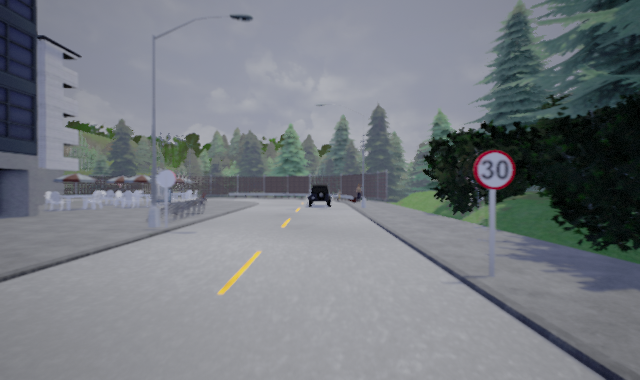pedestrian: (354, 183, 363, 203)
vehicle: (308, 183, 331, 206)
